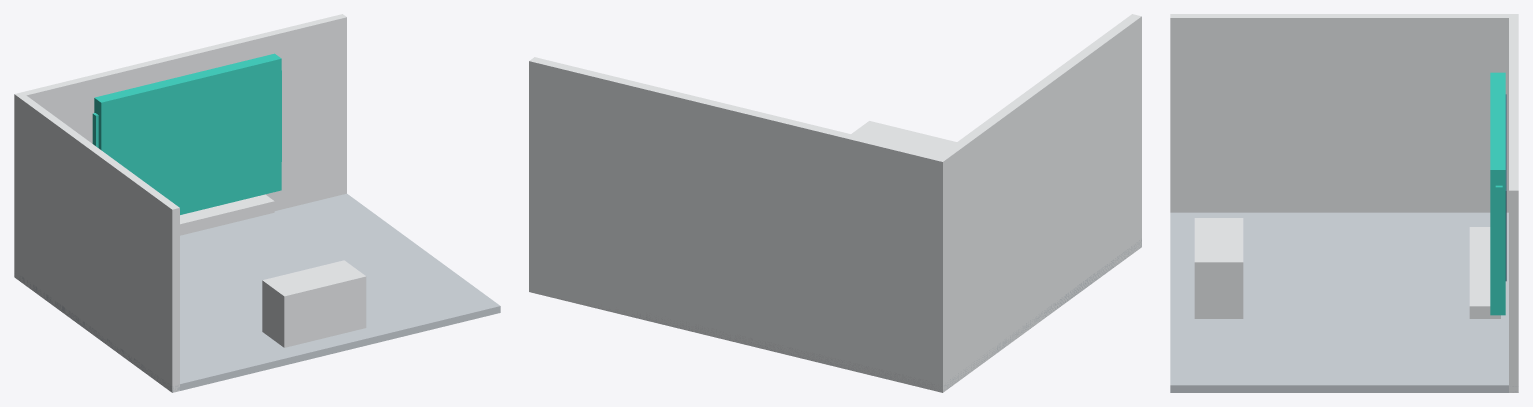
3 renders of one model, left to right at view 1: azimuth 30°, elevation 25°; view 2: azimuth 150°, elevation 25°; view 3: azimuth 270°, elevation 25°, orthographic. The views are drawn at different scales.
Parts seen in each view (by area): view 1: Exhibition Booth Concept; view 2: Exhibition Booth Concept; view 3: Exhibition Booth Concept.
Part boxes in pixels (x1,y1,x2,y2): Exhibition Booth Concept: [14, 14, 500, 392]; Exhibition Booth Concept: [529, 14, 1141, 392]; Exhibition Booth Concept: [1170, 14, 1518, 392].
Bounding box in the file's own units: 6 × 3.2 × 5.
